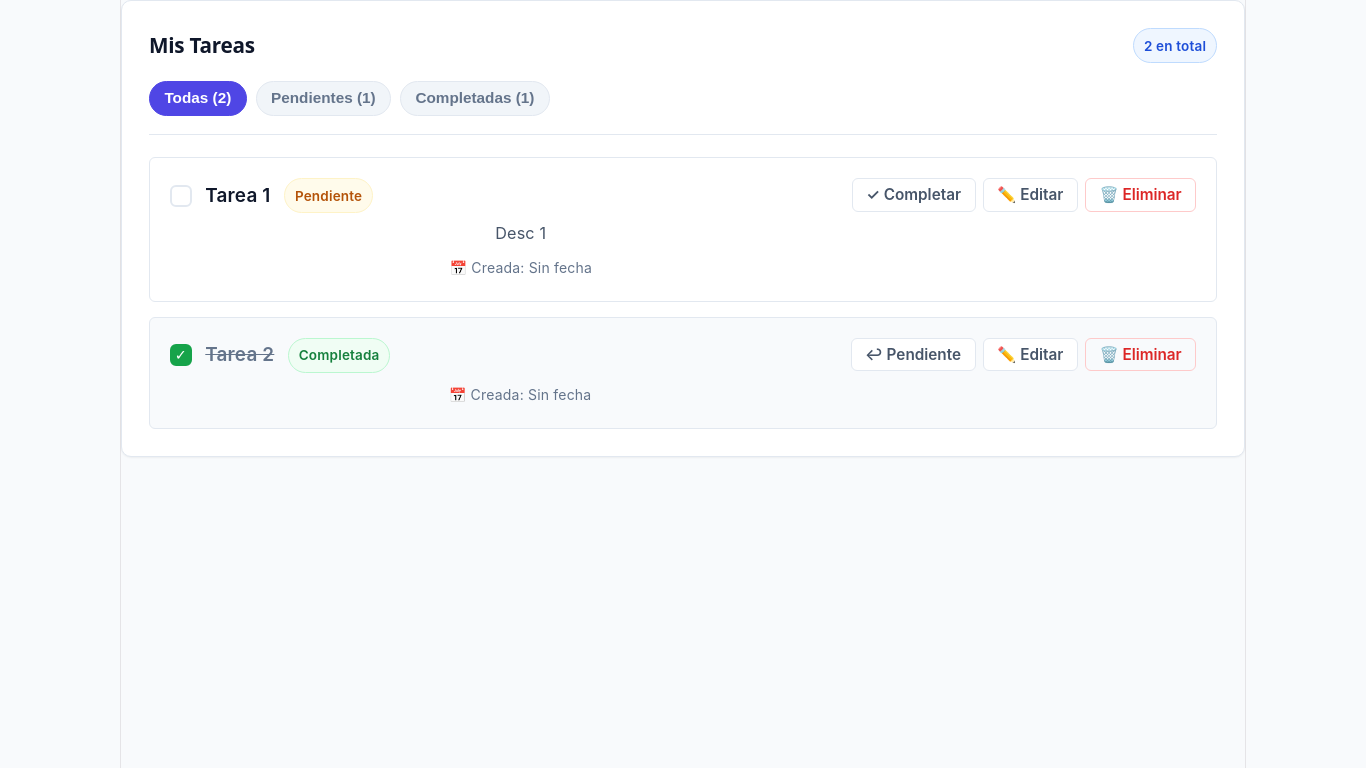
it: TaskList Component › renderiza la lista de tareas y permite filtrar por completadas y pendientes
Expected: the heading "Tarea 1" is shown, [205,182,270,209]
Expected: the heading "Tarea 2" is shown, [205,342,274,368]
# Filtra por Pendientes
What coordinates should you click on to do the following:
click the tab "Pendientes (1)"
I would click on:
 (323, 98)
Its box is [256,81,391,116].
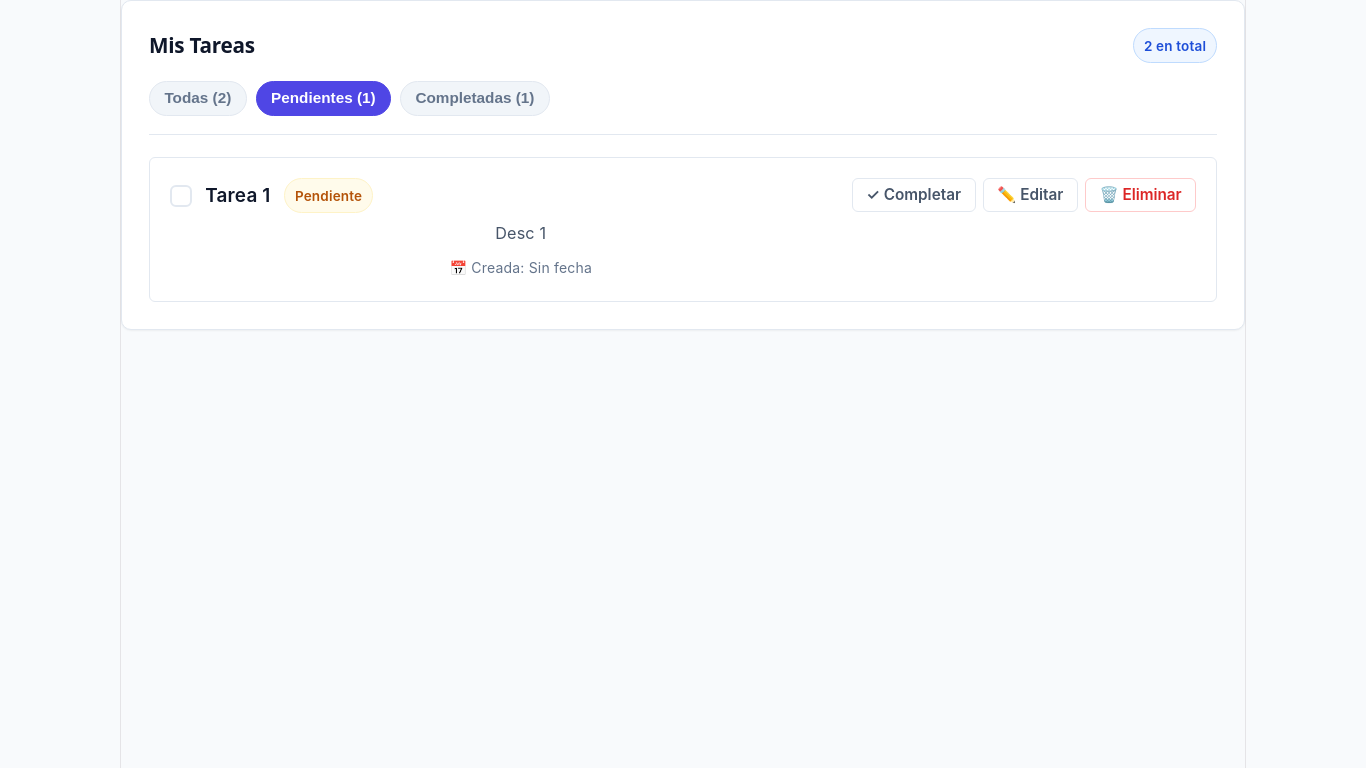
Expected: the heading "Tarea 1" is shown, [205,182,270,209]
Now the heading "Tarea 2" is gone
# Filtra por Completadas
What coordinates should you click on to do the following:
click the tab "Completadas (1)"
I would click on:
 (475, 98)
Its box is [400,81,550,116].
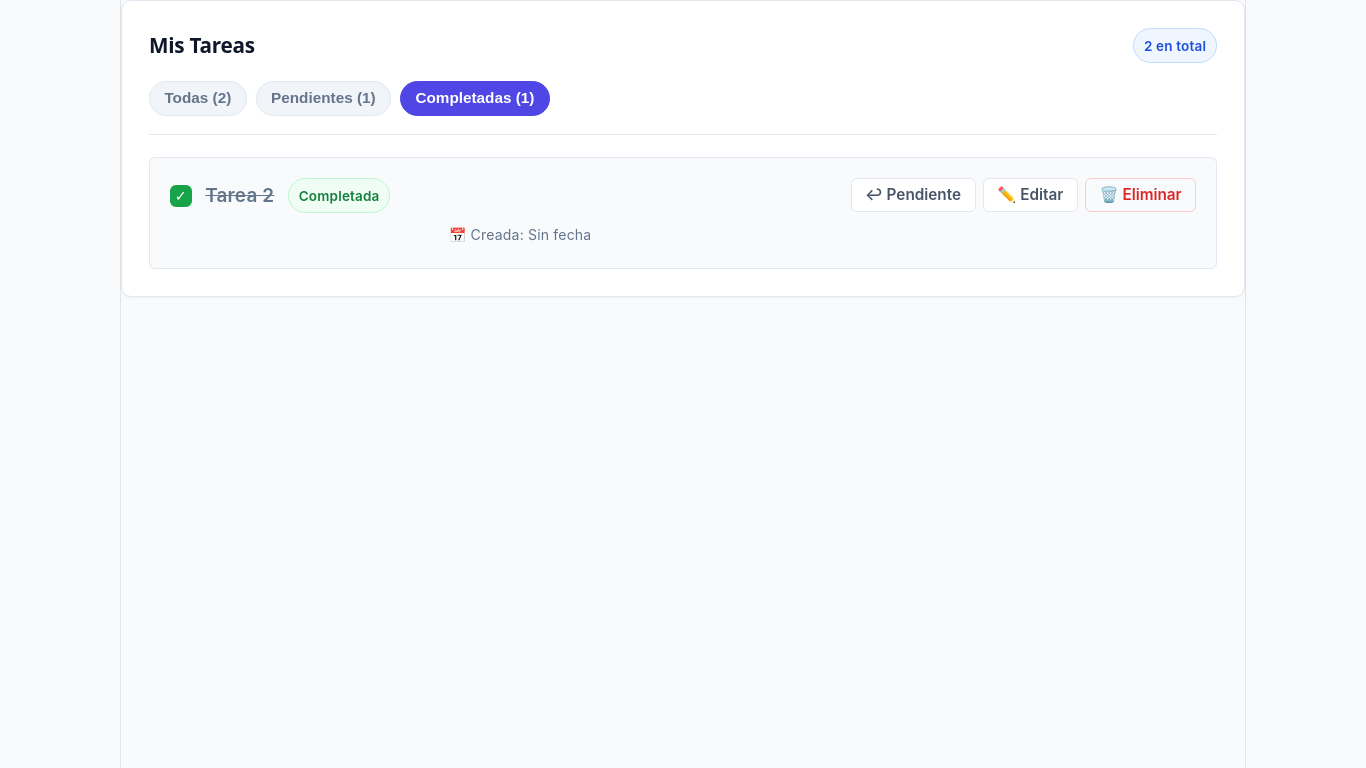
Now the heading "Tarea 1" is gone
Now the heading "Tarea 2" is shown, box [205,182,274,209]
